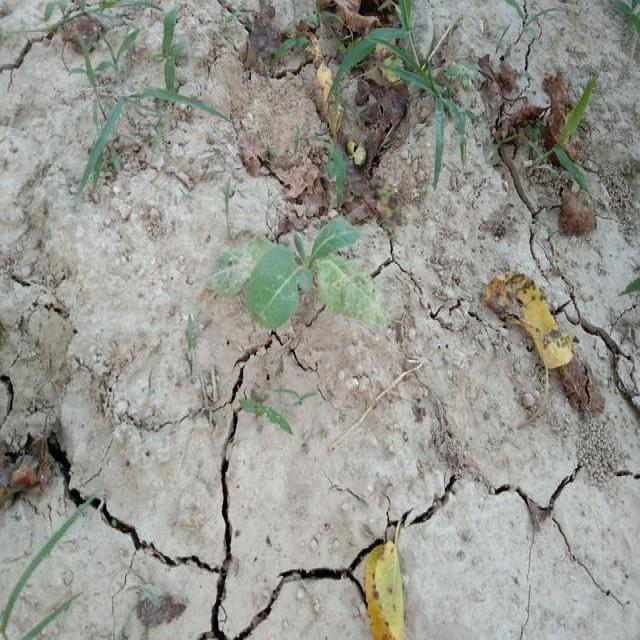crop: (205, 220, 376, 328)
